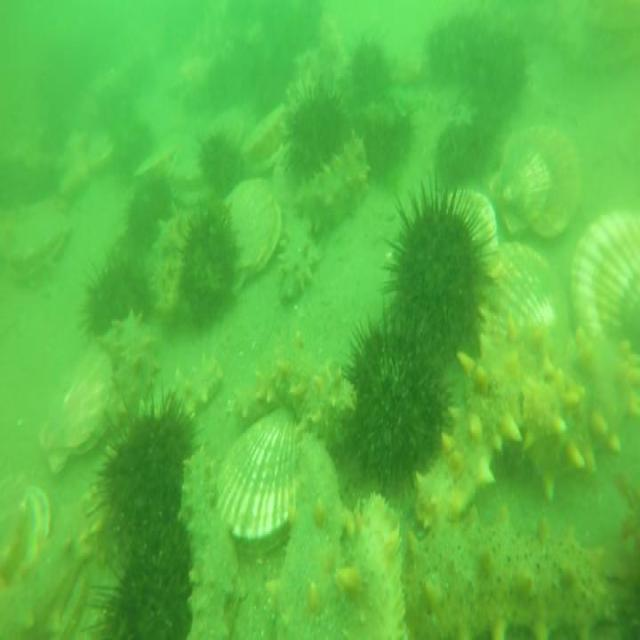echinus: (374, 174, 494, 363), (343, 306, 454, 484), (92, 379, 198, 556), (88, 512, 195, 638), (182, 201, 244, 322), (460, 19, 530, 125), (76, 250, 154, 341), (282, 85, 350, 180), (421, 6, 482, 98), (122, 162, 178, 258), (337, 30, 389, 117), (243, 43, 300, 120), (357, 101, 417, 169), (194, 125, 248, 196), (430, 115, 484, 174), (109, 117, 158, 177)
holothurian: (416, 314, 545, 531), (406, 513, 617, 640), (524, 319, 638, 492), (271, 433, 355, 640), (175, 447, 243, 640), (236, 349, 356, 436), (340, 488, 407, 640), (296, 133, 370, 235), (148, 207, 195, 329), (156, 351, 223, 431), (113, 310, 155, 424), (276, 207, 322, 308)
scallop: (496, 114, 588, 238), (220, 411, 305, 545), (570, 205, 640, 346), (39, 337, 112, 468), (474, 247, 569, 346), (222, 172, 282, 280), (0, 476, 51, 594), (0, 202, 69, 281), (452, 178, 499, 264), (241, 100, 289, 172), (130, 140, 182, 187)
